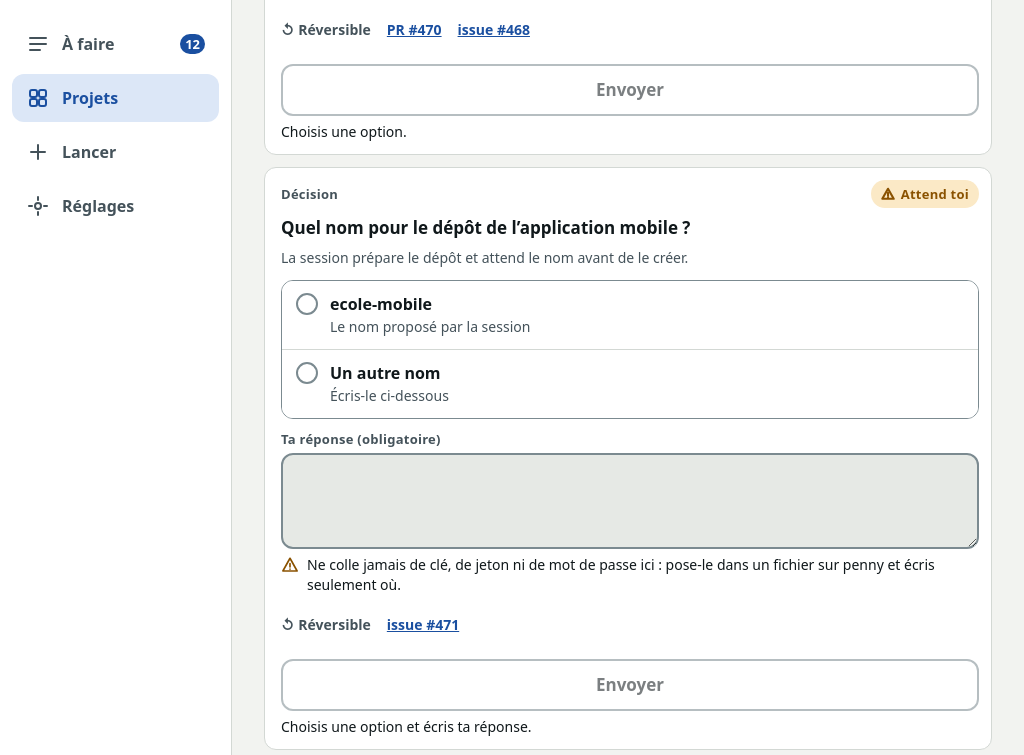
it: La carte de décision › texte obligatoire : « Envoyer » attend le choix et le texte
(page scrolled)
Click the radio button labelled "Un autre nom Écris-le ci-dessous" at (385, 373), box [282,350,978,418]
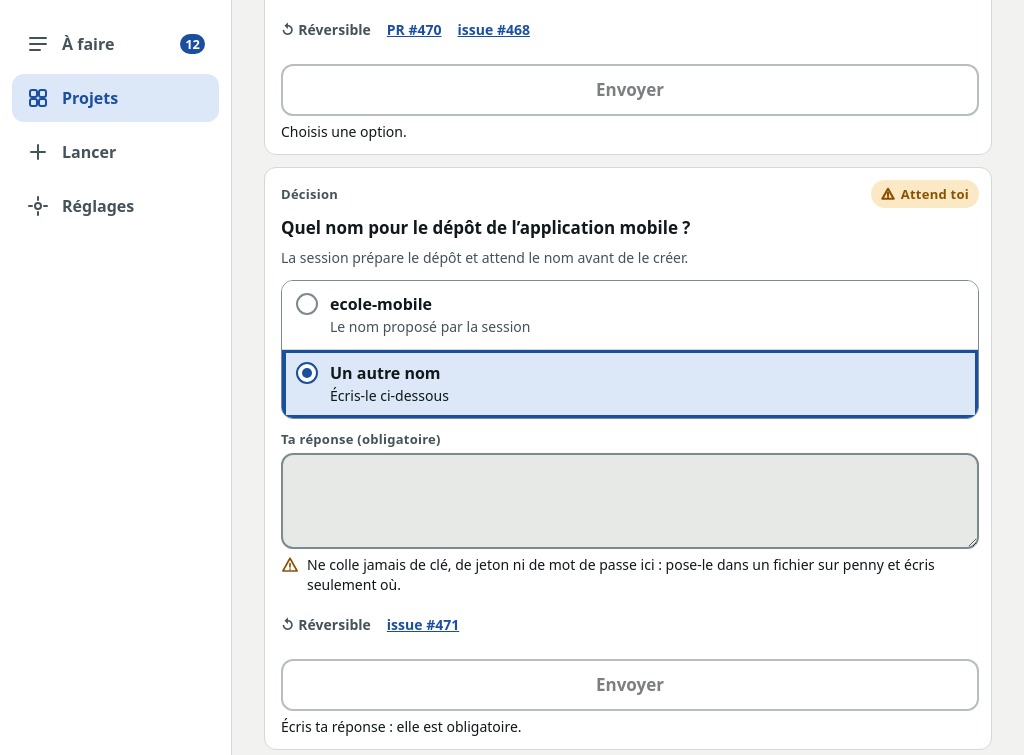
Check: the button "Envoyer" below "issue #471" is disabled, box [281,659,979,711]
Type "ecole-app" into the text box labelled "Ta réponse (obligatoire)" at (630, 501), box [281,453,979,549]
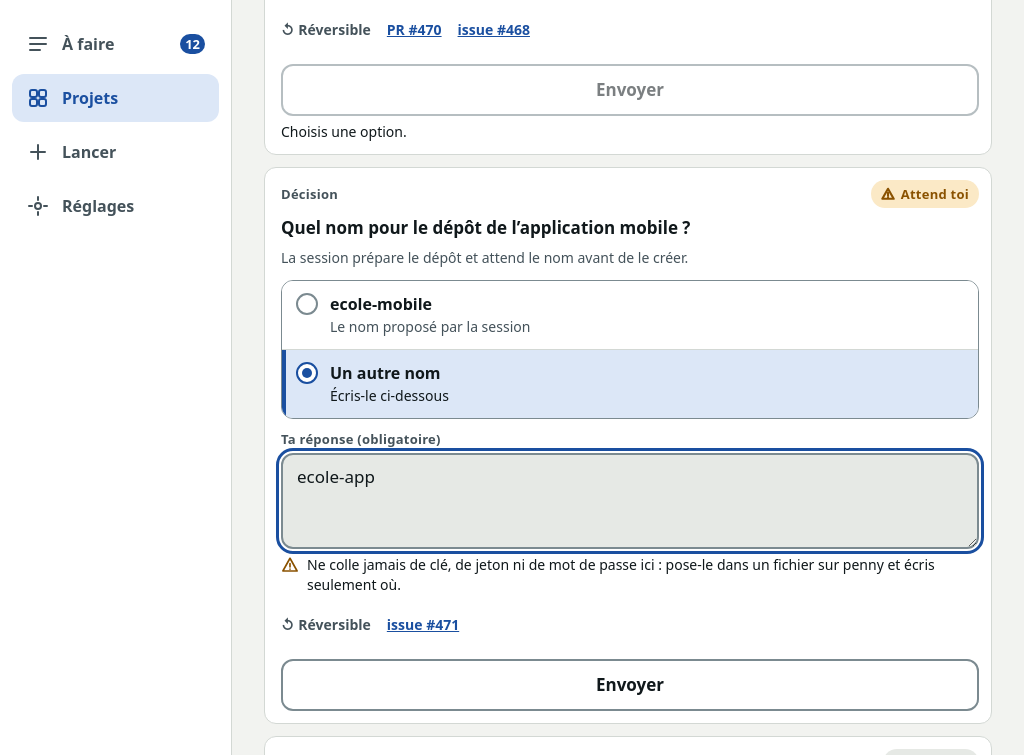
Check: the button "Envoyer" below "issue #471" is enabled, box [281,659,979,711]
